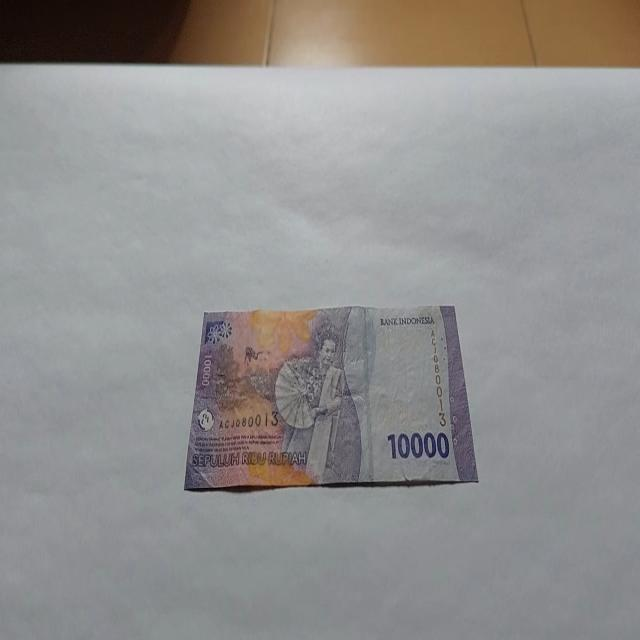sepuluh ribu rupiah: (183, 302, 479, 492)
